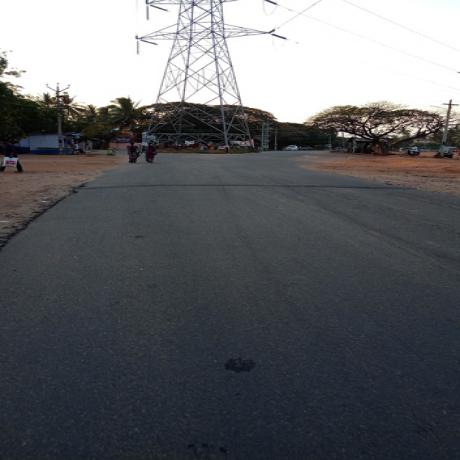Speed Bump: (74, 181, 416, 190)
